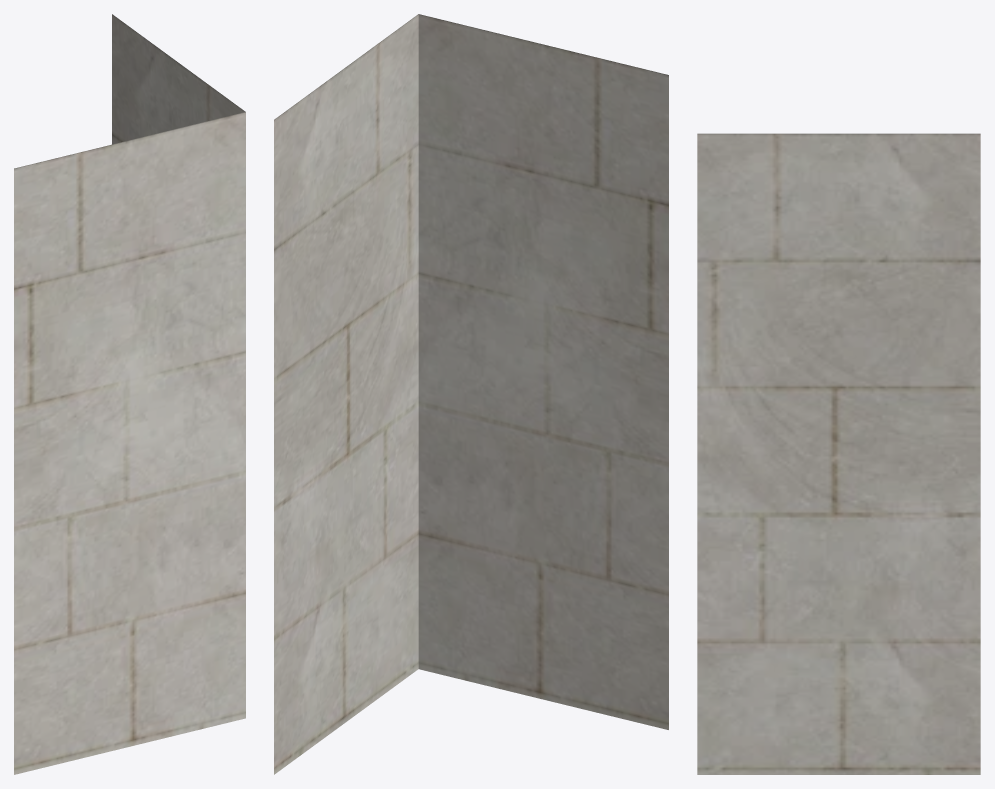
Rendered from wall-02-corner.glb.
The picture shows the model from 3 angles, left to right: view 1: azimuth 30°, elevation 25°; view 2: azimuth 150°, elevation 25°; view 3: azimuth 270°, elevation 25°; orthographic projection. The views are drawn at different scales.
Parts seen in each view (by area): view 1: Wall_02_Corner; view 2: Wall_02_Corner; view 3: Wall_02_Corner.
Part boxes in pixels (<box>): Wall_02_Corner: <box>14,14,245,774</box>; Wall_02_Corner: <box>274,14,668,774</box>; Wall_02_Corner: <box>697,133,980,774</box>.
Bounding box in the file's own units: 0.9999 × 2.5 × 0.9999.
Materials: 1 (1 with a texture image).
